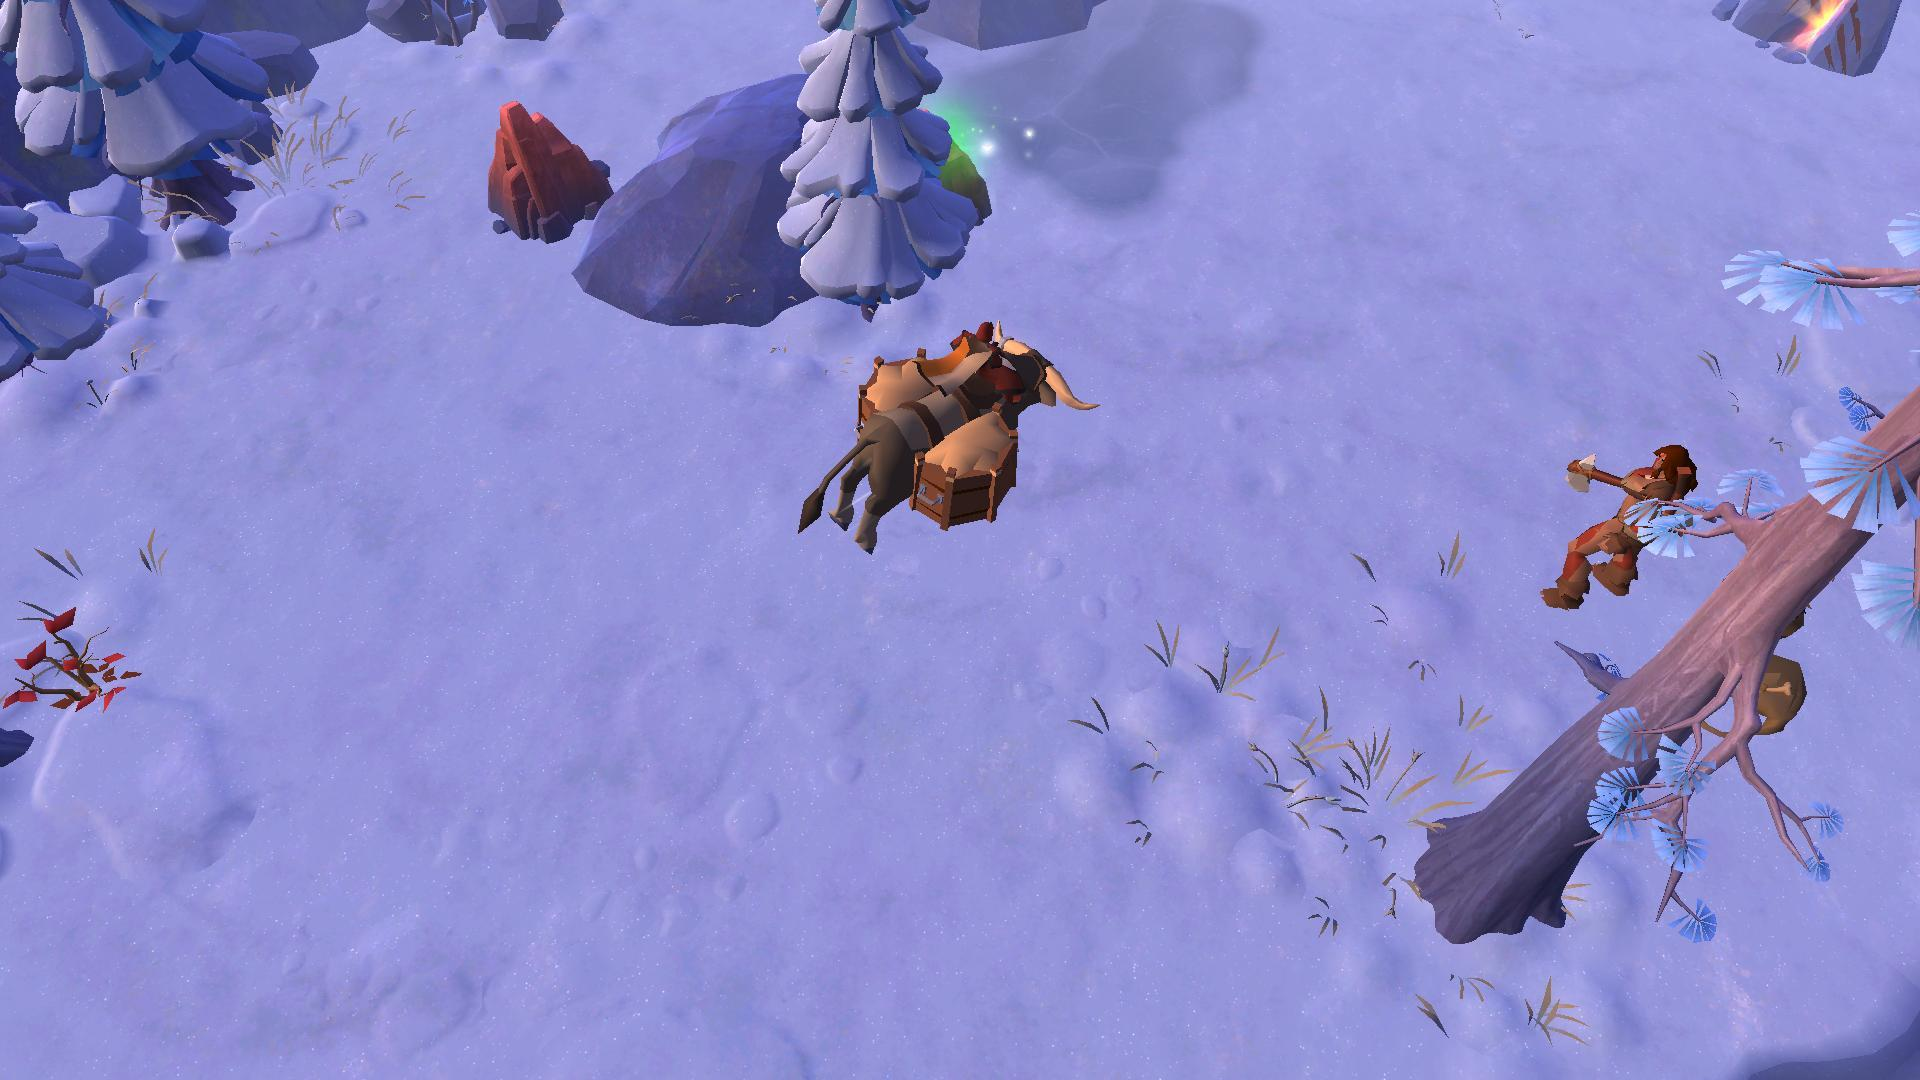enemy_factionKeeper: (1544, 425, 1689, 624)
rock_t5: (475, 94, 620, 248)
